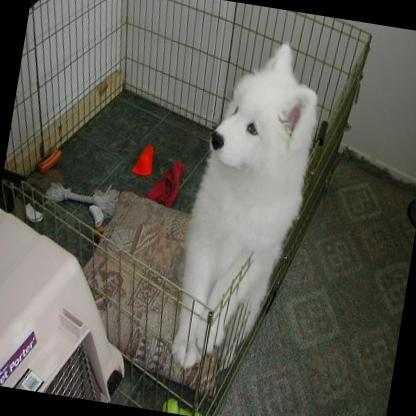Samoyed: (160, 30, 330, 380)
